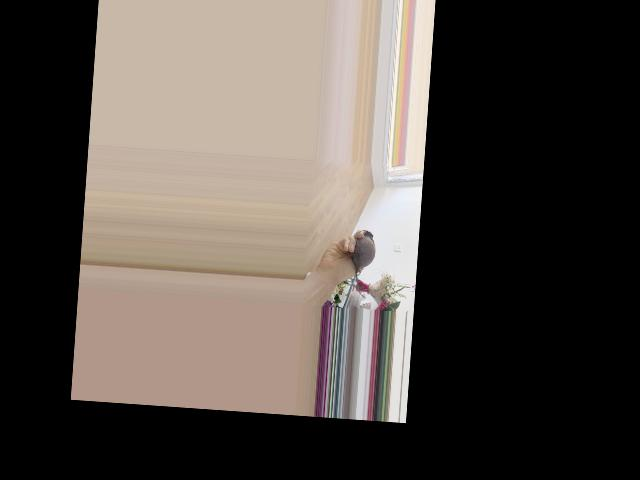beet: (348, 229, 376, 297)
